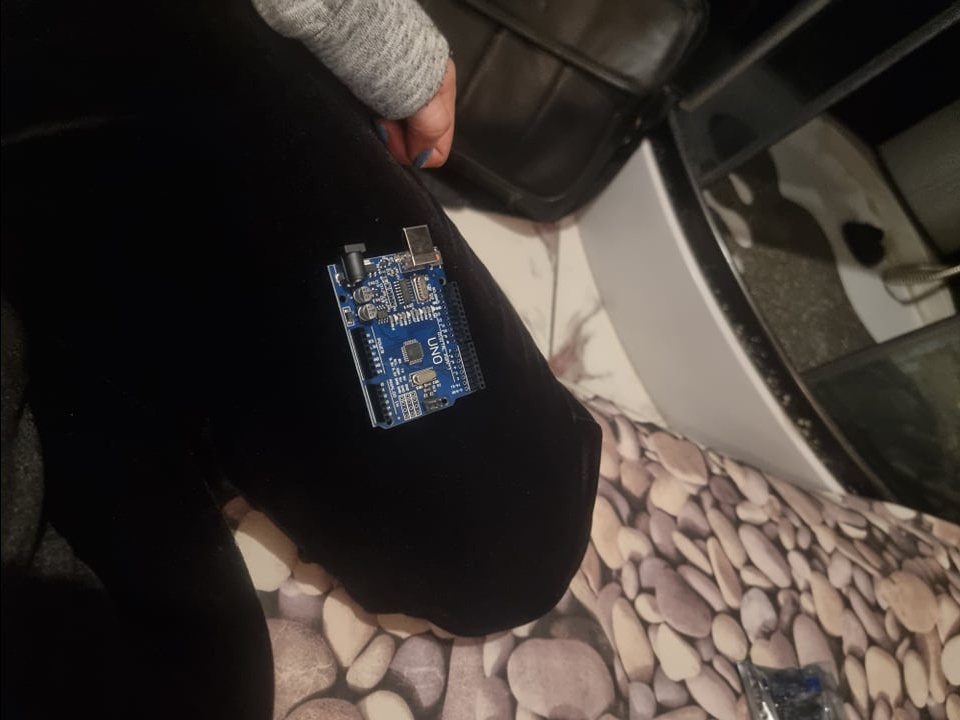UNO R3: (322, 224, 486, 439)
